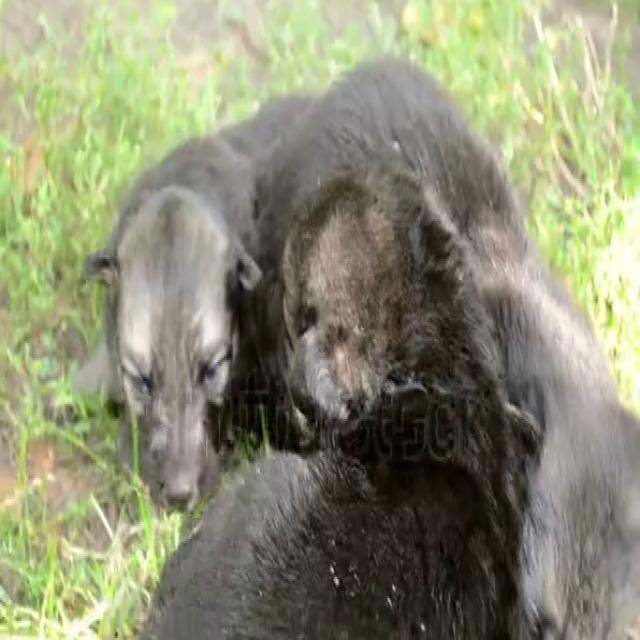normal_animals: (78, 50, 637, 638)
